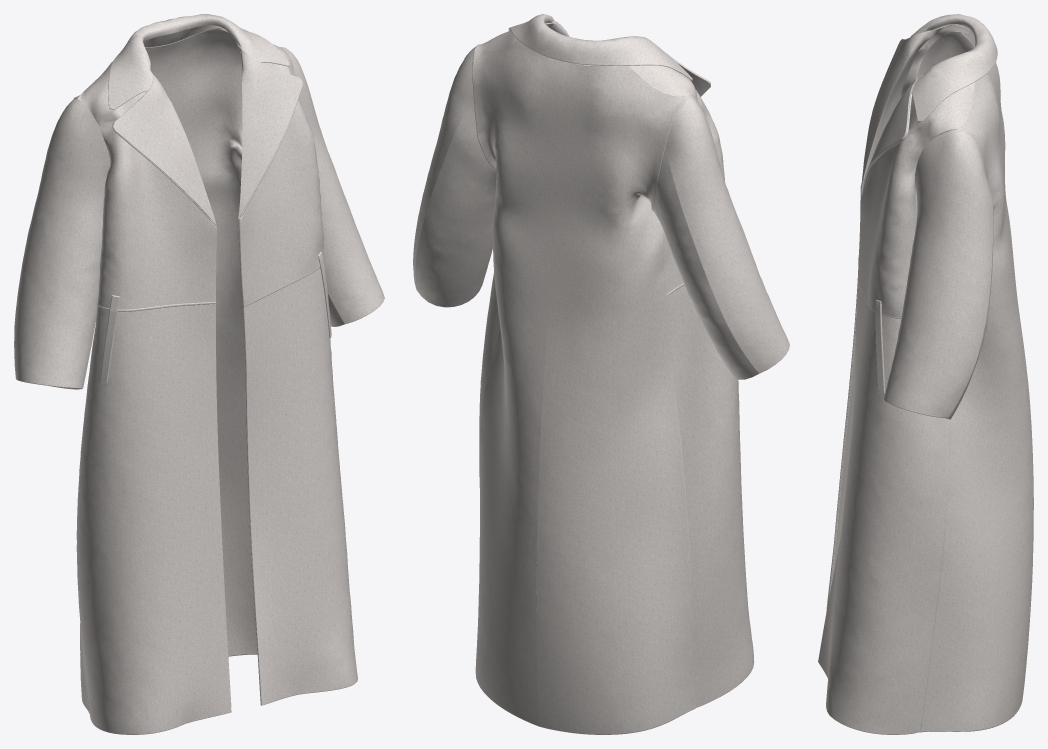
The model's file is Look 10_1.gltf.
3 renders of one model, left to right at view 1: azimuth 30°, elevation 25°; view 2: azimuth 150°, elevation 25°; view 3: azimuth 270°, elevation 25°, orthographic. The views are drawn at different scales.
Parts seen in each view (by area): view 1: Cloth, Pattern_11722168; view 2: Cloth; view 3: Cloth, Pattern_11722170.
Boxes of the visible parts, x1,y1,x2,y2 form: Cloth: [14, 14, 384, 734]; Pattern_11722168: [100, 295, 119, 383]; Cloth: [413, 14, 789, 734]; Cloth: [818, 14, 1033, 734]; Pattern_11722170: [875, 300, 885, 393].
Bounding box in the file's own units: 0.9168 × 1.63 × 0.4817.
Materials: 3 (3 with a texture image).
